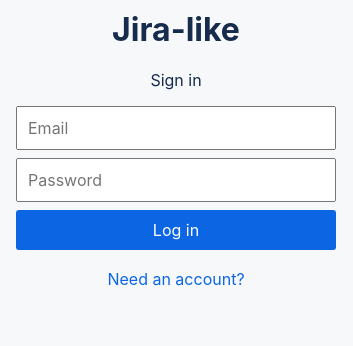
AuthPage › shows request errors and lets the user dismiss them
The image size is (353, 346).
Type "dev@example.com" into the field with placeholder "Email" at (176, 128), box [16,106,336,150]
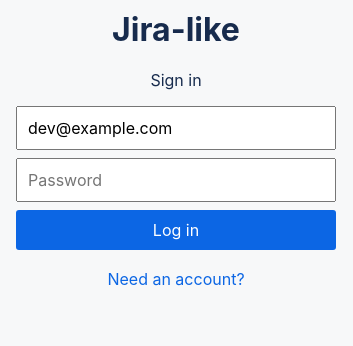
Type "secret123" into the password field with placeholder "Password" at (176, 180), box [16,158,336,202]
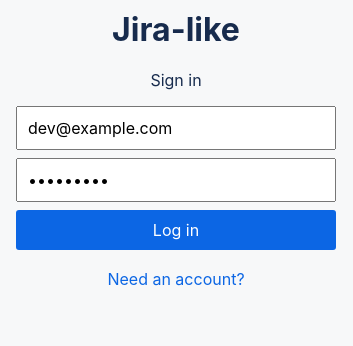
Click the button "Log in" at (176, 230), box [16,210,336,250]
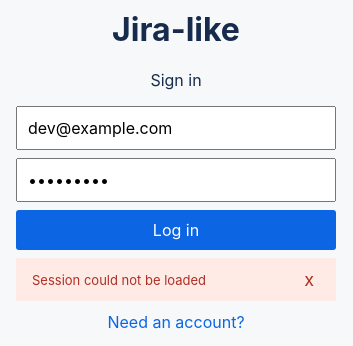
Expected: the message shows "Session could not be loaded", [32,272,206,288]
Click the button named "Dismiss error" at (309, 280), box [298,268,320,291]
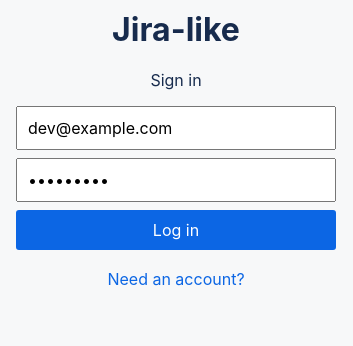
Expected: the message "Session could not be loaded x" is gone
